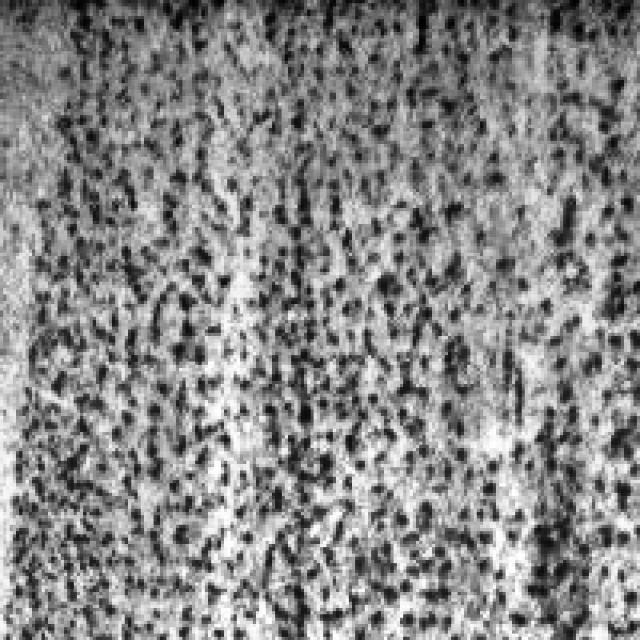Rolled_in_Scale: (9, 0, 636, 637)
